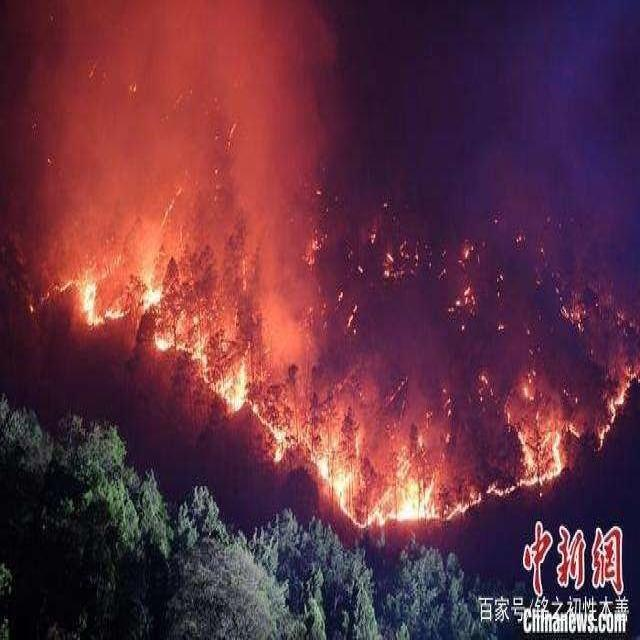fire: (59, 253, 629, 527)
smoke: (54, 0, 352, 235)
